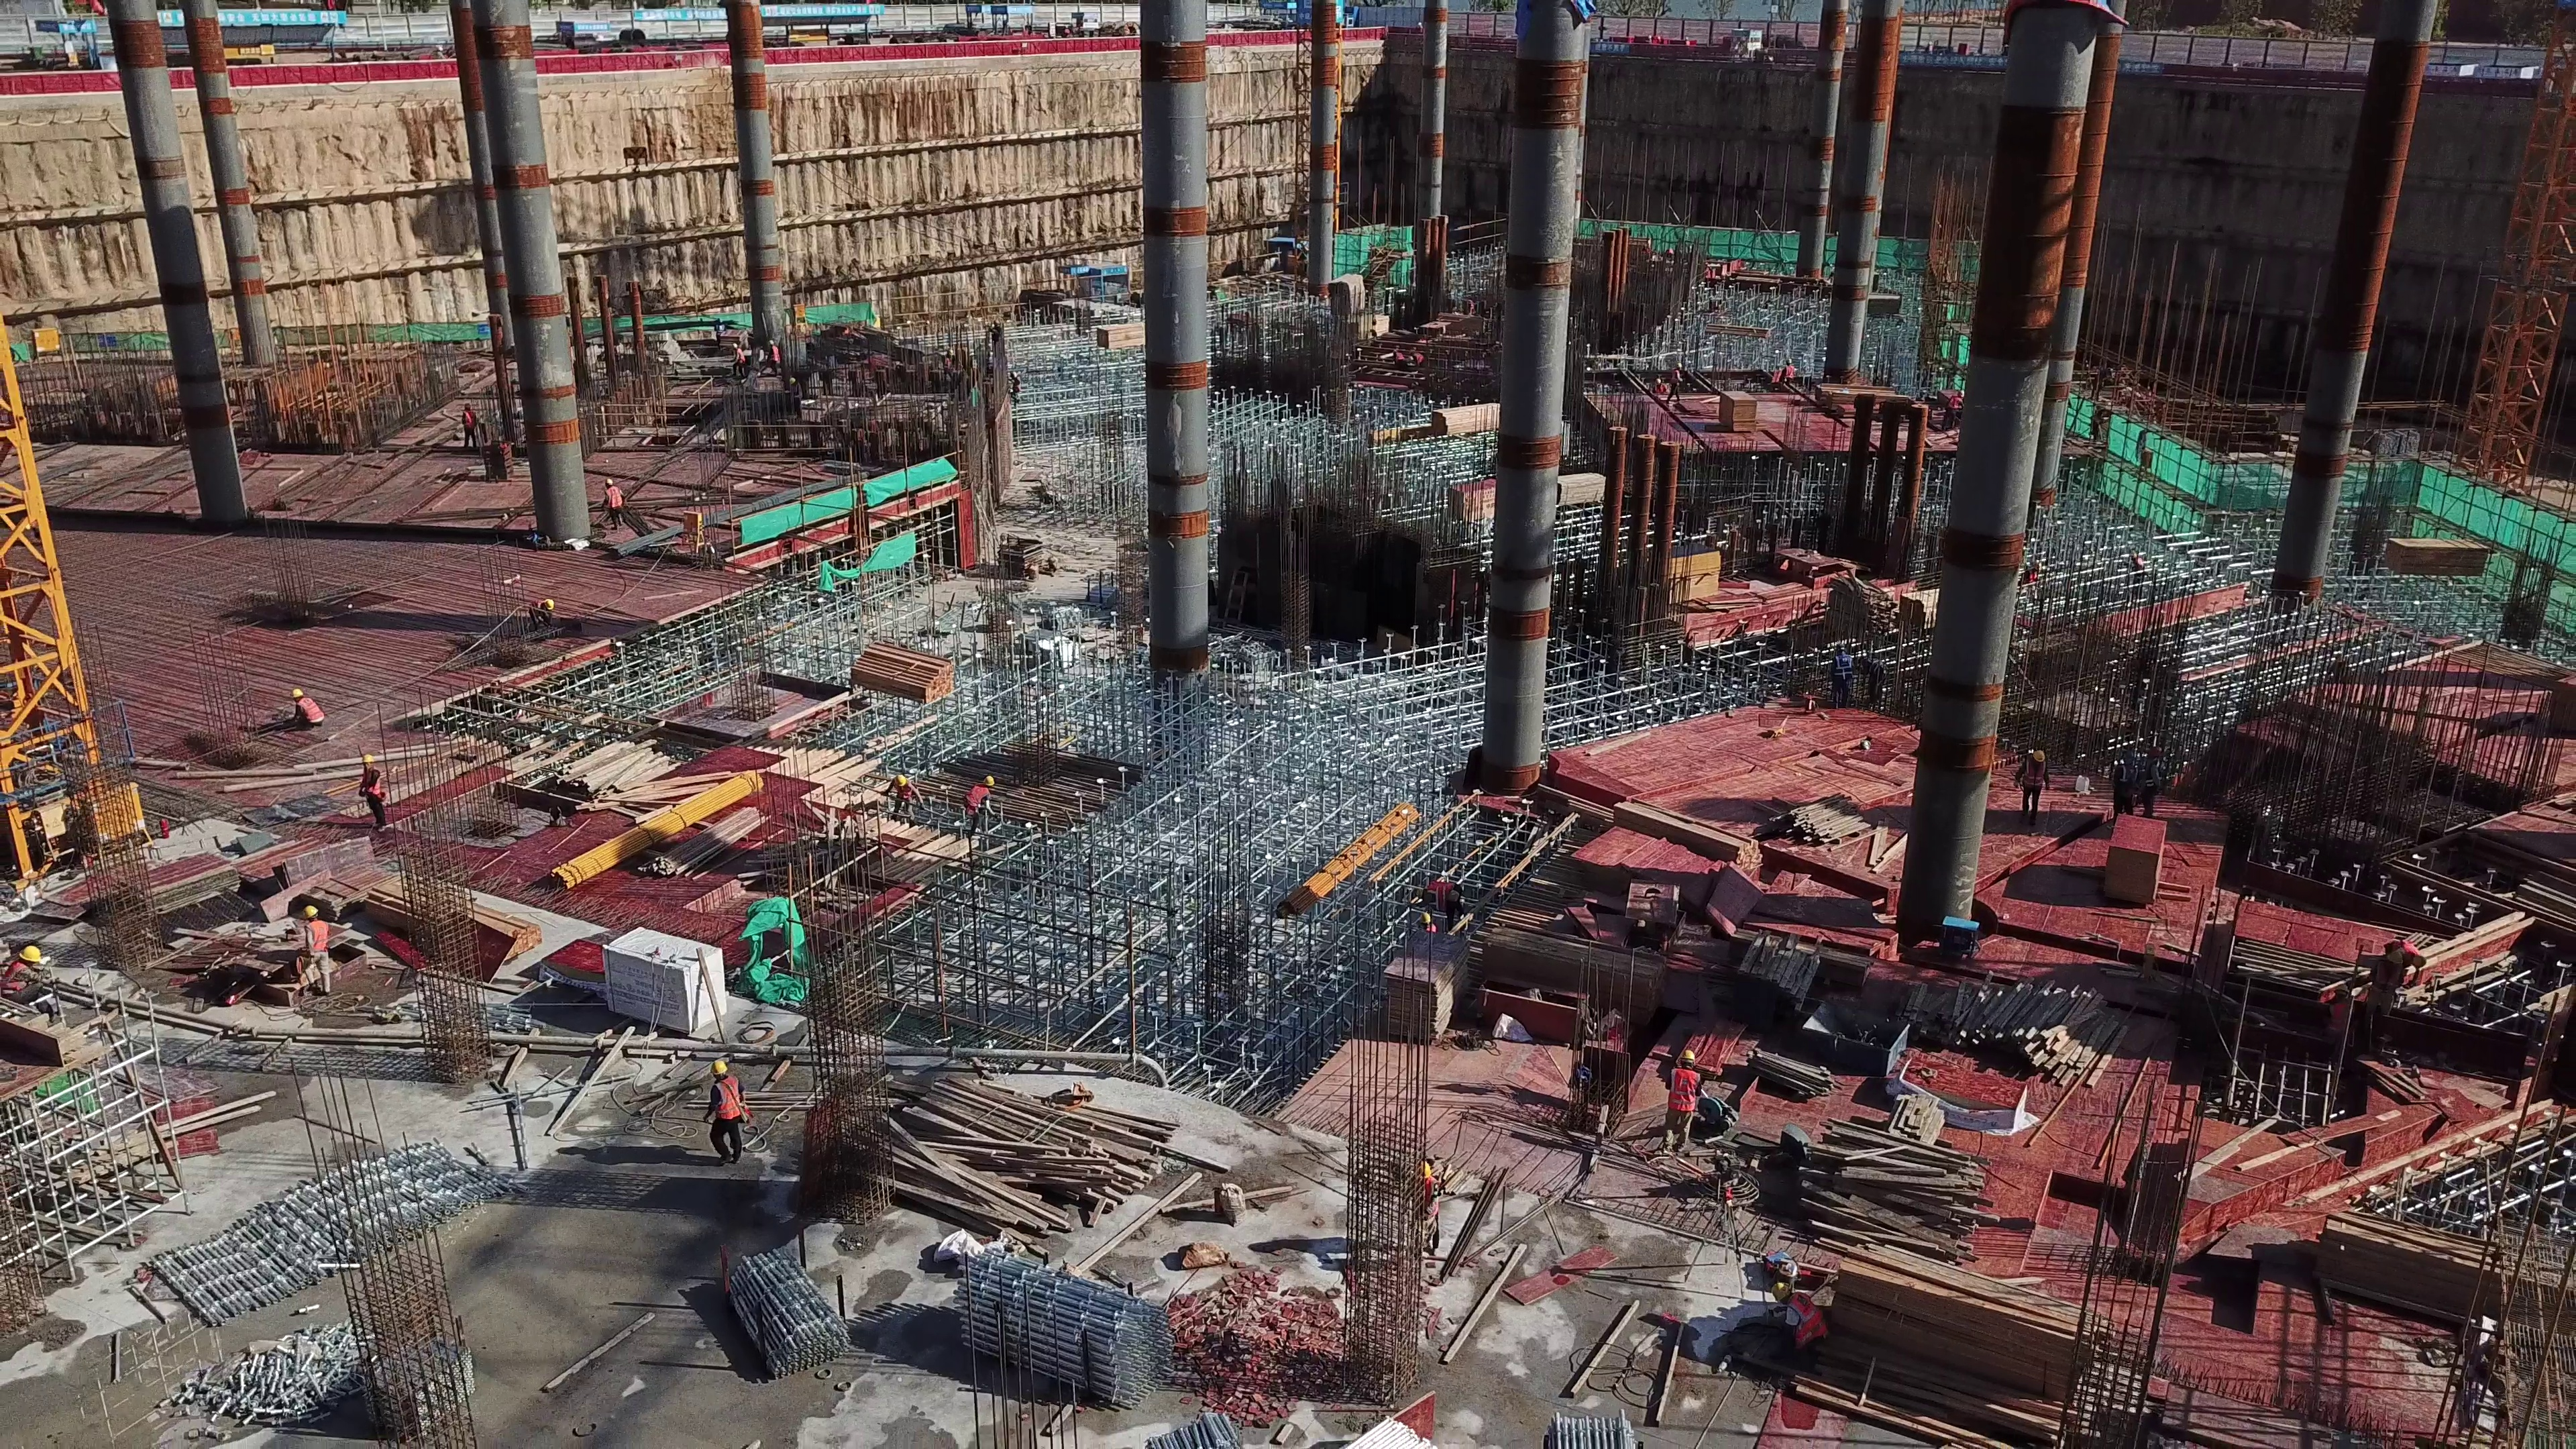board: (1485, 919, 1652, 1015), (1589, 833, 1719, 930), (260, 841, 397, 910), (1383, 927, 1465, 1039), (2104, 812, 2169, 902), (148, 857, 239, 920), (1450, 472, 1493, 524), (1720, 388, 1754, 432)
cutter: (1702, 1098, 1741, 1137)
ebox: (72, 783, 151, 855), (679, 512, 708, 553)
fence: (757, 26, 1395, 67), (2107, 24, 2392, 82), (1438, 21, 1806, 50), (217, 58, 454, 97), (518, 48, 735, 83), (1, 70, 201, 91), (1890, 28, 2012, 60)
helmet: (19, 945, 50, 965), (1766, 1283, 1788, 1300), (1413, 1159, 1432, 1179), (1416, 912, 1434, 928), (299, 904, 316, 918), (710, 1060, 725, 1075), (1679, 1049, 1696, 1062), (290, 685, 304, 699), (2028, 748, 2044, 761), (543, 595, 555, 609), (360, 753, 377, 763), (895, 774, 910, 786), (983, 775, 997, 785)
person: (1764, 1282, 1831, 1369), (698, 1065, 752, 1160), (288, 902, 339, 1003), (1407, 1158, 1440, 1261), (5, 948, 55, 1016), (352, 749, 395, 826), (870, 777, 926, 832), (1670, 1053, 1697, 1149), (2021, 748, 2051, 826), (962, 773, 992, 839), (2139, 749, 2163, 818), (1827, 647, 1854, 708), (2110, 748, 2132, 819), (292, 687, 327, 729), (600, 480, 625, 531), (523, 594, 553, 630), (456, 403, 476, 447), (728, 343, 748, 375), (762, 343, 780, 376)
scaffold: (148, 1123, 518, 1321), (951, 1247, 1155, 1390), (215, 1333, 389, 1431), (705, 1242, 833, 1368), (1123, 1411, 1236, 1449), (1546, 1409, 1642, 1449)
vest: (1668, 1066, 1701, 1120), (709, 1075, 742, 1129), (1788, 1295, 1819, 1341), (297, 698, 326, 729), (1827, 654, 1858, 683), (1422, 883, 1454, 909), (2021, 763, 2046, 792), (304, 923, 329, 954), (358, 771, 382, 800), (964, 783, 987, 812), (2140, 765, 2161, 798), (2113, 761, 2133, 792), (604, 486, 618, 511)
wood: (1819, 1259, 2092, 1440), (886, 1060, 1098, 1218), (1771, 1132, 2004, 1263), (1950, 987, 2127, 1082), (552, 741, 714, 828), (1769, 795, 1890, 864), (854, 641, 945, 713), (1735, 946, 1833, 1004)
